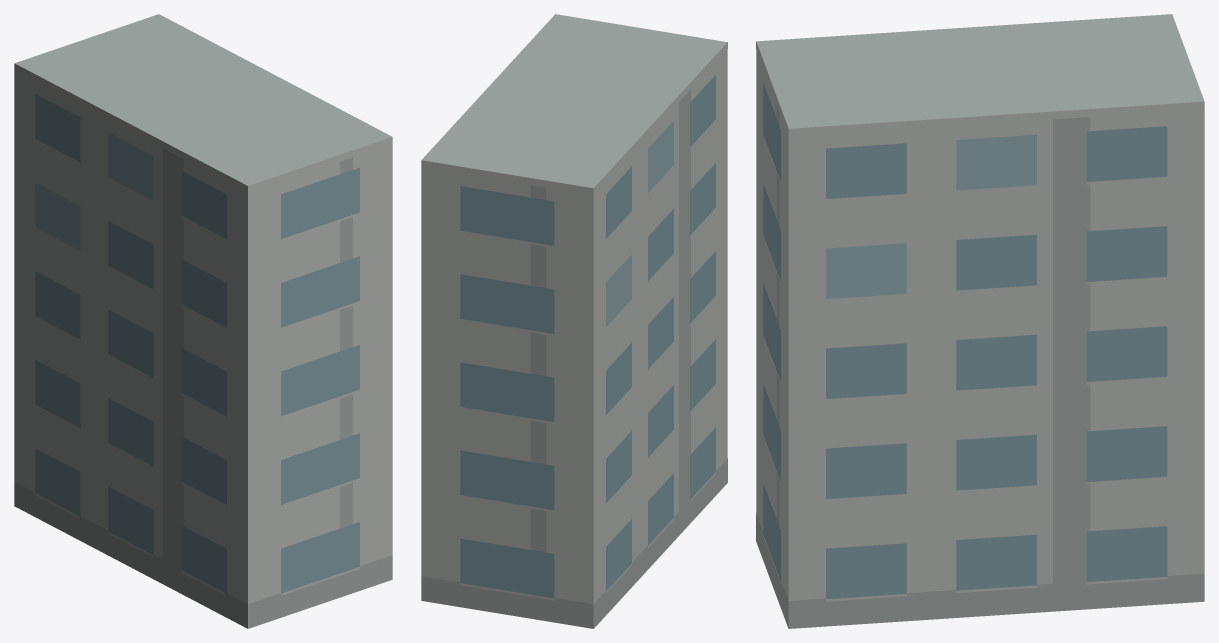
The model's file is survey-upis-32547094.glb.
3 views of the same model, side by side, from view 1: azimuth 30°, elevation 25°; view 2: azimuth 150°, elevation 25°; view 3: azimuth 270°, elevation 25° (orthographic). The views are drawn at different scales.
Parts seen in each view (by area): view 1: survey-upis-32547094.tmp; view 2: survey-upis-32547094.tmp; view 3: survey-upis-32547094.tmp.
Part boxes in pixels (<box>): survey-upis-32547094.tmp: <box>14,14,392,628</box>; survey-upis-32547094.tmp: <box>421,14,727,628</box>; survey-upis-32547094.tmp: <box>756,14,1204,628</box>.
Size of the model in its own units: 7.52 by 15.25 by 12.4.
